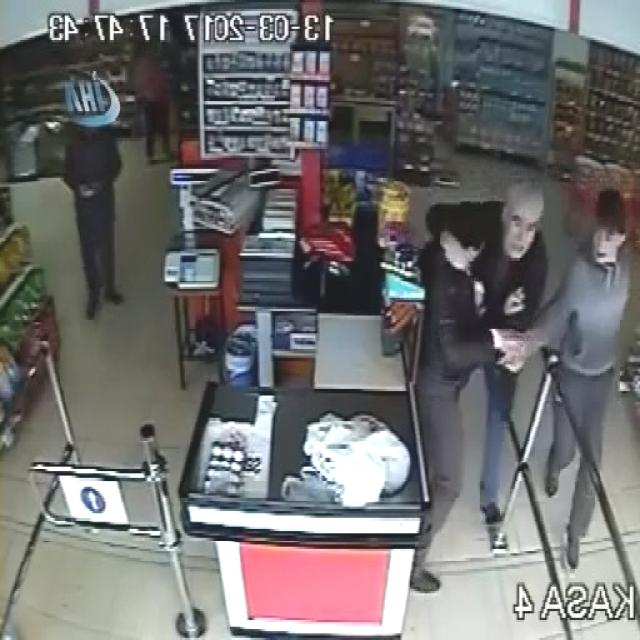fight: (398, 180, 631, 505)
